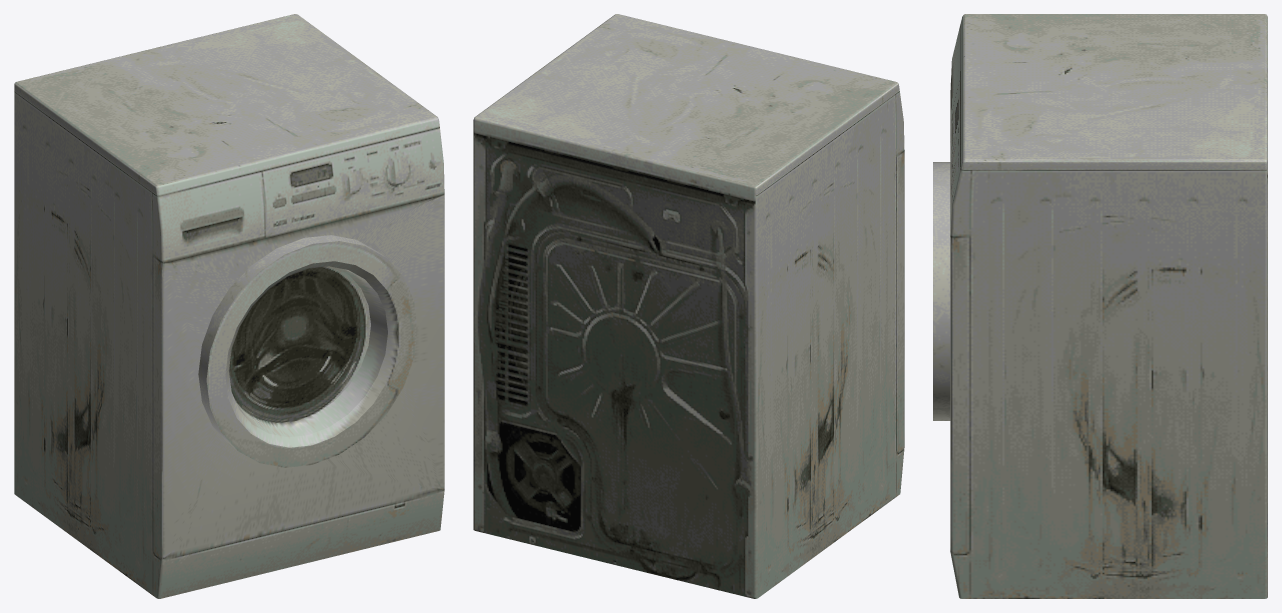
The model's file is psx_washing_machine (2).glb.
3 views of the same model, side by side, from view 1: azimuth 30°, elevation 25°; view 2: azimuth 150°, elevation 25°; view 3: azimuth 270°, elevation 25° (orthographic). The views are drawn at different scales.
Visible parts, largest first — view 1: SM_WashingMachine; view 2: SM_WashingMachine; view 3: SM_WashingMachine.
Part boxes in pixels (left/top/right/bottom): SM_WashingMachine: left=14, top=14, right=444, bottom=598; SM_WashingMachine: left=473, top=14, right=904, bottom=598; SM_WashingMachine: left=933, top=14, right=1267, bottom=598.
Size of the model in its own units: 0.5733 by 0.7958 by 0.5504.
1 material, 1 textured.
